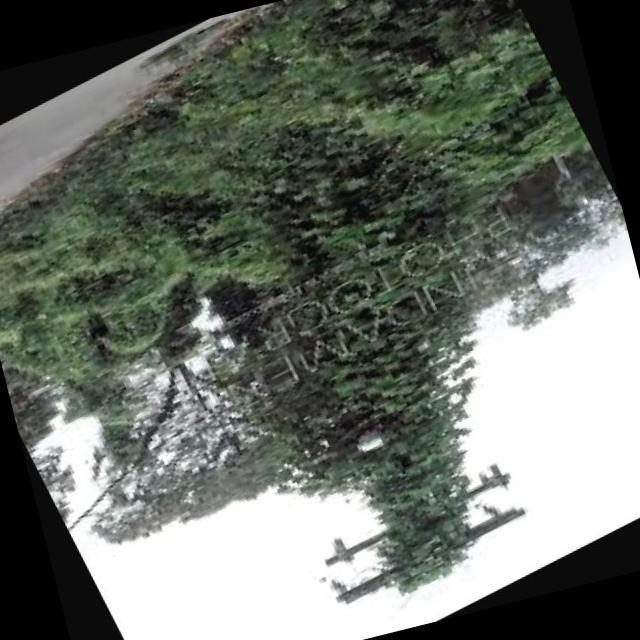critical vegetation: (110, 315, 608, 640)
